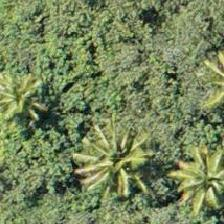coconut_tree: (76, 115, 166, 205), (152, 139, 223, 223), (0, 42, 62, 132)
